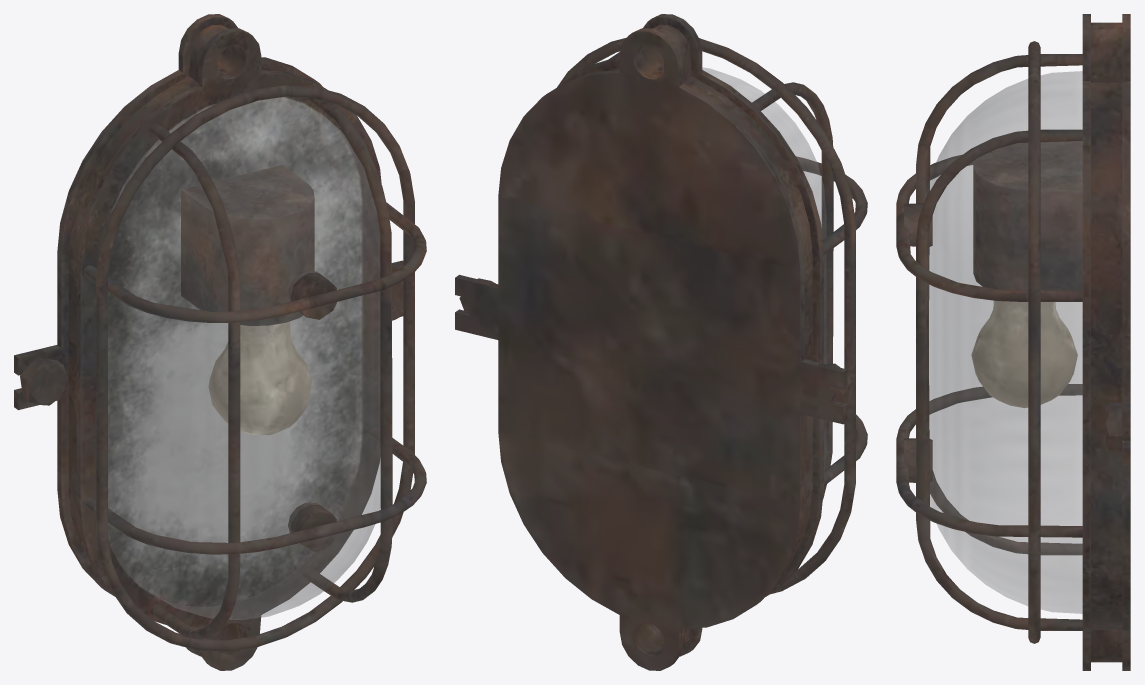
Rendered from ph-industrial_wall_lamp.glb.
3 views of the same model, side by side, from view 1: azimuth 30°, elevation 25°; view 2: azimuth 150°, elevation 25°; view 3: azimuth 270°, elevation 25° (orthographic).
Visible parts, largest first — view 1: industrial_wall_lamp; view 2: industrial_wall_lamp; view 3: industrial_wall_lamp.
Boxes of the visible parts, box(x1,y1,x2,y2) form: industrial_wall_lamp: box(14, 14, 426, 670); industrial_wall_lamp: box(455, 14, 867, 670); industrial_wall_lamp: box(896, 14, 1130, 670).
Size of the model in its own units: 0.2734 by 0.4299 by 0.1404.
Materials: 2 (2 with a texture image).
